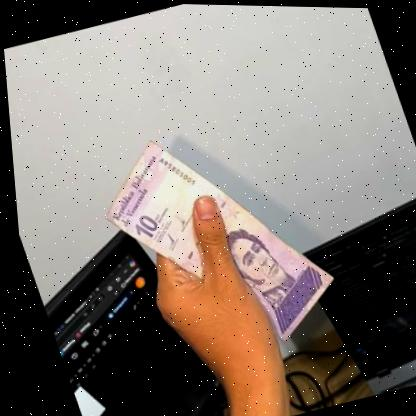vef_front: (77, 103, 349, 377)
